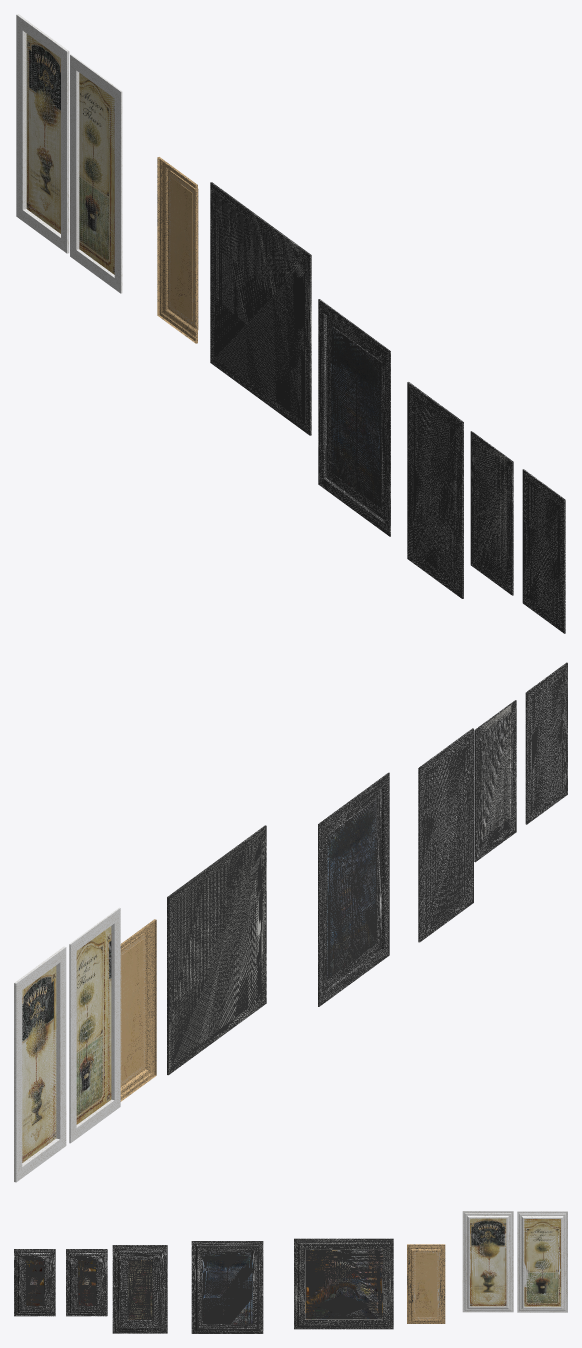
File: ARTfrenchFramed.fbx
3 views of the same model, one above another, from view 1: azimuth 30°, elevation 25°; view 2: azimuth 150°, elevation 25°; view 3: azimuth 270°, elevation 25° (orthographic). The views are drawn at different scales.
Visible parts, largest first — view 1: Group4, Group5, Group10, Group13, Group8, Group3, Group6, Group12, Group2, Group9; view 2: Group4, Group5, Group10, Group8, Group3, Group13, Group6, Group12, Group2, Group9, Group11; view 3: Group4, Group5, Group10, Group8, Group3, Group13, Group6, Group12, Group9, Group2.
Boxes of the visible parts, bbox=[...] form: Group4: bbox=[210, 182, 311, 435]; Group5: bbox=[318, 299, 390, 536]; Group10: bbox=[407, 382, 463, 598]; Group13: bbox=[157, 157, 198, 343]; Group8: bbox=[79, 73, 114, 274]; Group3: bbox=[26, 33, 60, 233]; Group6: bbox=[522, 469, 565, 633]; Group12: bbox=[470, 431, 513, 595]; Group2: bbox=[16, 14, 69, 253]; Group9: bbox=[70, 54, 122, 293]; Group4: bbox=[167, 825, 266, 1075]; Group5: bbox=[318, 772, 389, 1006]; Group10: bbox=[418, 728, 473, 942]; Group8: bbox=[76, 926, 111, 1124]; Group3: bbox=[22, 965, 56, 1162]; Group13: bbox=[120, 919, 156, 1101]; Group6: bbox=[525, 662, 567, 824]; Group12: bbox=[474, 700, 516, 862]; Group2: bbox=[14, 946, 66, 1182]; Group9: bbox=[69, 907, 120, 1143]; Group11: bbox=[480, 705, 511, 838]; Group4: bbox=[294, 1238, 393, 1329]; Group5: bbox=[191, 1241, 263, 1333]; Group10: bbox=[112, 1245, 167, 1333]; Group8: bbox=[470, 1218, 506, 1306]; Group3: bbox=[524, 1219, 560, 1306]; Group13: bbox=[407, 1244, 445, 1323]; Group6: bbox=[14, 1249, 55, 1316]; Group12: bbox=[66, 1249, 107, 1316]; Group9: bbox=[462, 1211, 513, 1312]; Group2: bbox=[517, 1211, 567, 1312].
Bounding box in the file's own units: 198 × 1323 × 5335.
